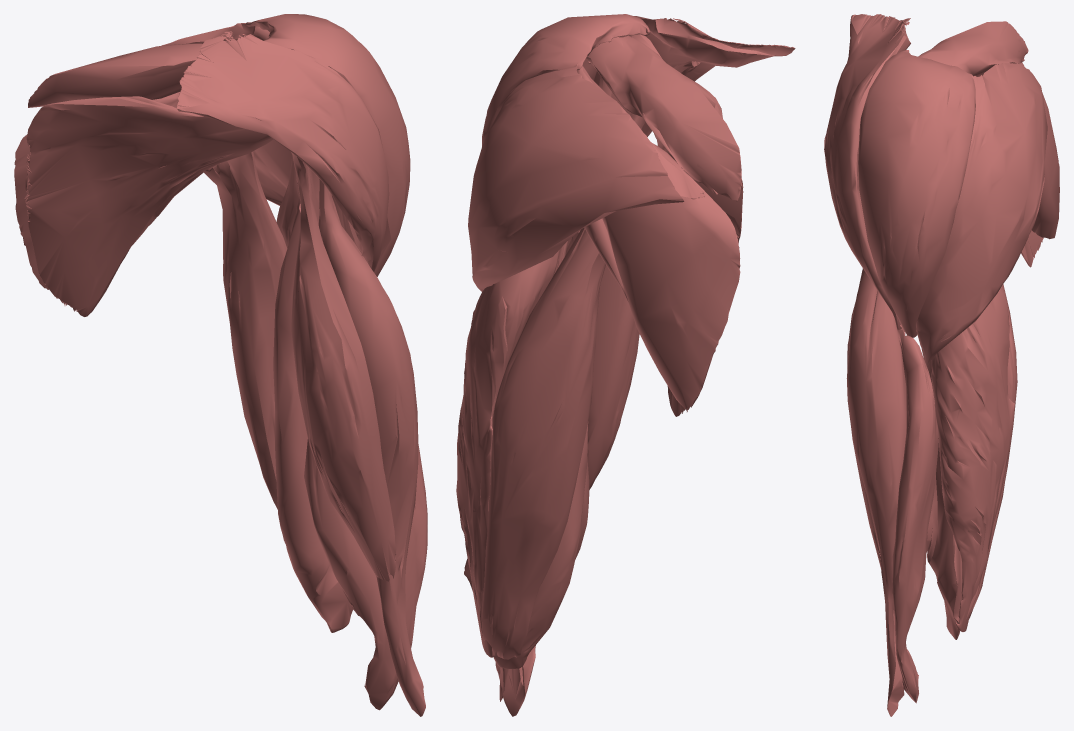
The model's file is muscular-upper-left.glb.
3 views of the same model, side by side, from view 1: azimuth 30°, elevation 25°; view 2: azimuth 150°, elevation 25°; view 3: azimuth 270°, elevation 25° (orthographic). The views are drawn at different scales.
Visible parts, largest first — view 1: bp3d_FMA13415_FJ1504M, bp3d_FMA34681_FJ1468M, bp3d_FMA37685_FJ1512M, bp3d_FMA37687_FJ1478M, bp3d_FMA37700_FJ1479M, bp3d_FMA37696_FJ1480M, bp3d_FMA37669_FJ1486M, bp3d_FMA34683_FJ1467M, bp3d_FMA32545_FJ1506M, bp3d_FMA34685_FJ1513M, bp3d_FMA32548_FJ1500M, bp3d_FMA37698_FJ1477M; view 2: bp3d_FMA37700_FJ1479M, bp3d_FMA34685_FJ1513M, bp3d_FMA32548_FJ1500M, bp3d_FMA37698_FJ1477M, bp3d_FMA32545_FJ1506M, bp3d_FMA37685_FJ1512M, bp3d_FMA34683_FJ1467M, bp3d_FMA34681_FJ1468M, bp3d_FMA37696_FJ1480M, bp3d_FMA37669_FJ1486M, bp3d_FMA13415_FJ1504M, bp3d_FMA32554_FJ1508M; view 3: bp3d_FMA34683_FJ1467M, bp3d_FMA34685_FJ1513M, bp3d_FMA37698_FJ1477M, bp3d_FMA37687_FJ1478M, bp3d_FMA37669_FJ1486M, bp3d_FMA34681_FJ1468M, bp3d_FMA32545_FJ1506M, bp3d_FMA37696_FJ1480M, bp3d_FMA32548_FJ1500M, bp3d_FMA37700_FJ1479M, bp3d_FMA37685_FJ1512M, bp3d_FMA13415_FJ1504M.
Part boxes in pixels (<box>): bp3d_FMA13415_FJ1504M: <box>24,96,273,316</box>; bp3d_FMA34681_FJ1468M: <box>177,31,389,271</box>; bp3d_FMA37685_FJ1512M: <box>291,152,396,581</box>; bp3d_FMA37687_FJ1478M: <box>318,179,425,716</box>; bp3d_FMA37700_FJ1479M: <box>203,151,287,509</box>; bp3d_FMA37696_FJ1480M: <box>273,203,352,632</box>; bp3d_FMA37669_FJ1486M: <box>304,439,427,710</box>; bp3d_FMA34683_FJ1467M: <box>246,14,410,276</box>; bp3d_FMA32545_FJ1506M: <box>28,43,202,107</box>; bp3d_FMA34685_FJ1513M: <box>161,22,354,241</box>; bp3d_FMA32548_FJ1500M: <box>14,91,180,289</box>; bp3d_FMA37698_FJ1477M: <box>276,157,340,248</box>; bp3d_FMA37700_FJ1479M: <box>480,228,605,659</box>; bp3d_FMA34685_FJ1513M: <box>468,63,705,291</box>; bp3d_FMA32548_FJ1500M: <box>579,66,740,409</box>; bp3d_FMA37698_FJ1477M: <box>456,240,568,657</box>; bp3d_FMA32545_FJ1506M: <box>586,35,741,201</box>; bp3d_FMA37685_FJ1512M: <box>587,61,700,489</box>; bp3d_FMA34683_FJ1467M: <box>482,14,650,146</box>; bp3d_FMA34681_FJ1468M: <box>594,16,795,136</box>; bp3d_FMA37696_FJ1480M: <box>464,231,588,668</box>; bp3d_FMA37669_FJ1486M: <box>502,457,589,716</box>; bp3d_FMA13415_FJ1504M: <box>654,76,743,416</box>; bp3d_FMA32554_FJ1508M: <box>584,218,628,302</box>; bp3d_FMA34683_FJ1467M: <box>858,50,975,337</box>; bp3d_FMA34685_FJ1513M: <box>916,63,1047,367</box>; bp3d_FMA37698_FJ1477M: <box>931,288,1014,631</box>; bp3d_FMA37687_FJ1478M: <box>846,272,906,716</box>; bp3d_FMA37669_FJ1486M: <box>892,321,938,703</box>; bp3d_FMA34681_FJ1468M: <box>824,14,910,329</box>; bp3d_FMA32545_FJ1506M: <box>918,21,1028,76</box>; bp3d_FMA37696_FJ1480M: <box>927,360,962,639</box>; bp3d_FMA32548_FJ1500M: <box>1032,92,1059,239</box>; bp3d_FMA37700_FJ1479M: <box>962,284,1017,620</box>; bp3d_FMA37685_FJ1512M: <box>847,268,904,569</box>; bp3d_FMA13415_FJ1504M: <box>1020,62,1043,267</box>.
Bounding box in the file's own units: 0.1749 × 0.3613 × 0.125.
